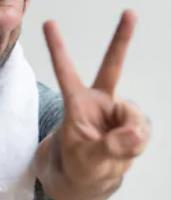front: (40, 8, 157, 184)
